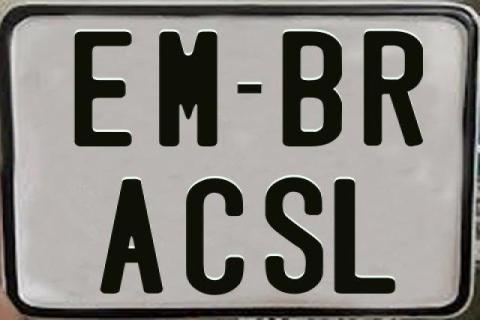A: (97, 178, 161, 296)
B: (280, 31, 340, 147)
C: (183, 176, 247, 293)
E: (74, 29, 136, 145)
L: (334, 178, 396, 294)
M: (159, 31, 220, 146)
R: (362, 30, 426, 148)
S: (265, 177, 326, 297)
